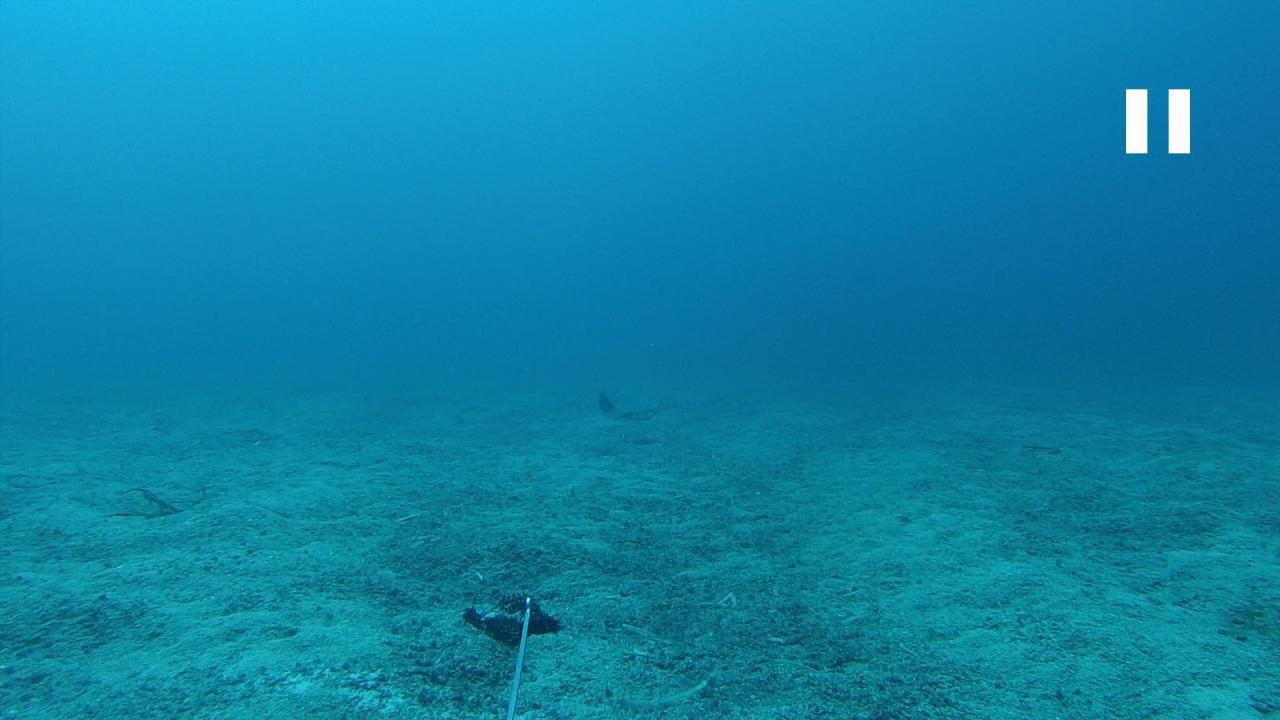dasyatis: (596, 389, 672, 423)
